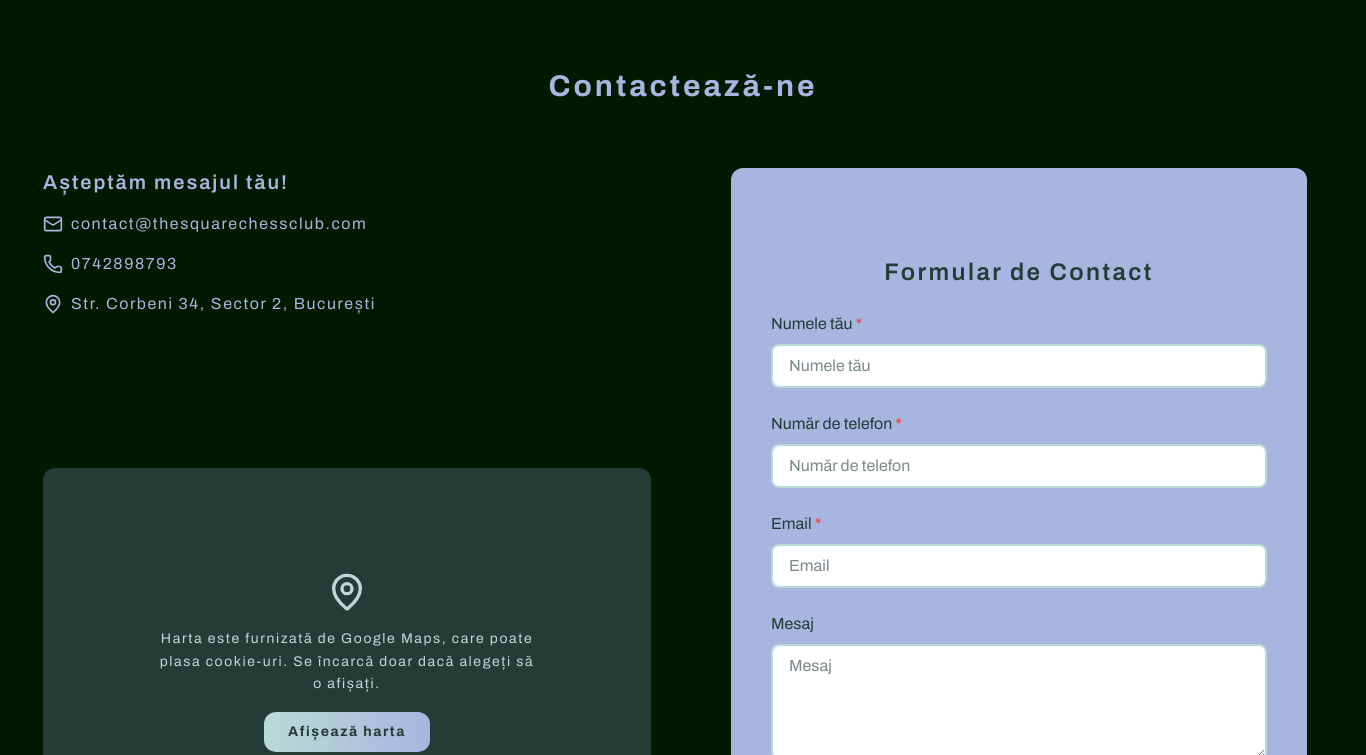
Contact Form - Manual Testing Scenarios › should successfully submit form with all valid data
# Fill in all fields
Type "Ion Popescu" into the field labelled "Numele tău *". click: [1019, 366]
box: [771,344,1267,388]
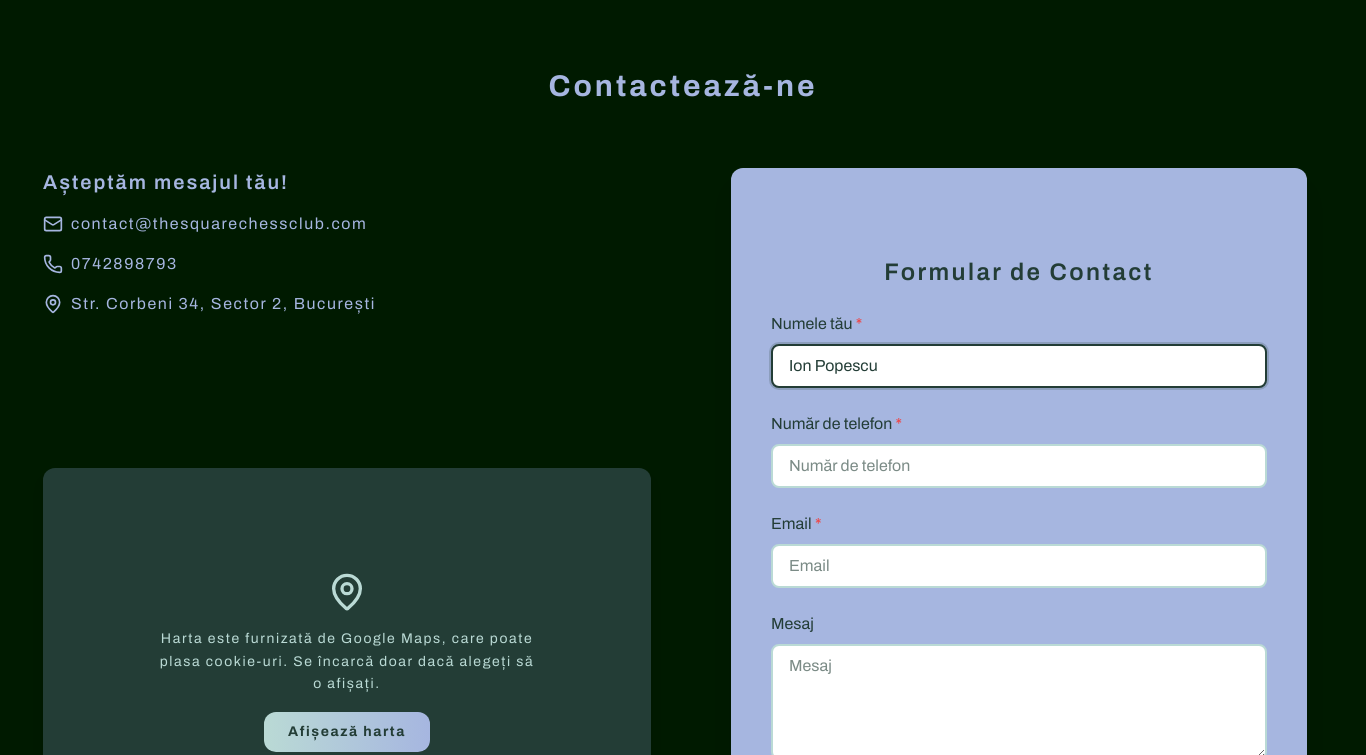
Type "0741234567" into the field labelled "Număr de telefon *". click: [1019, 466]
box: [771,444,1267,488]
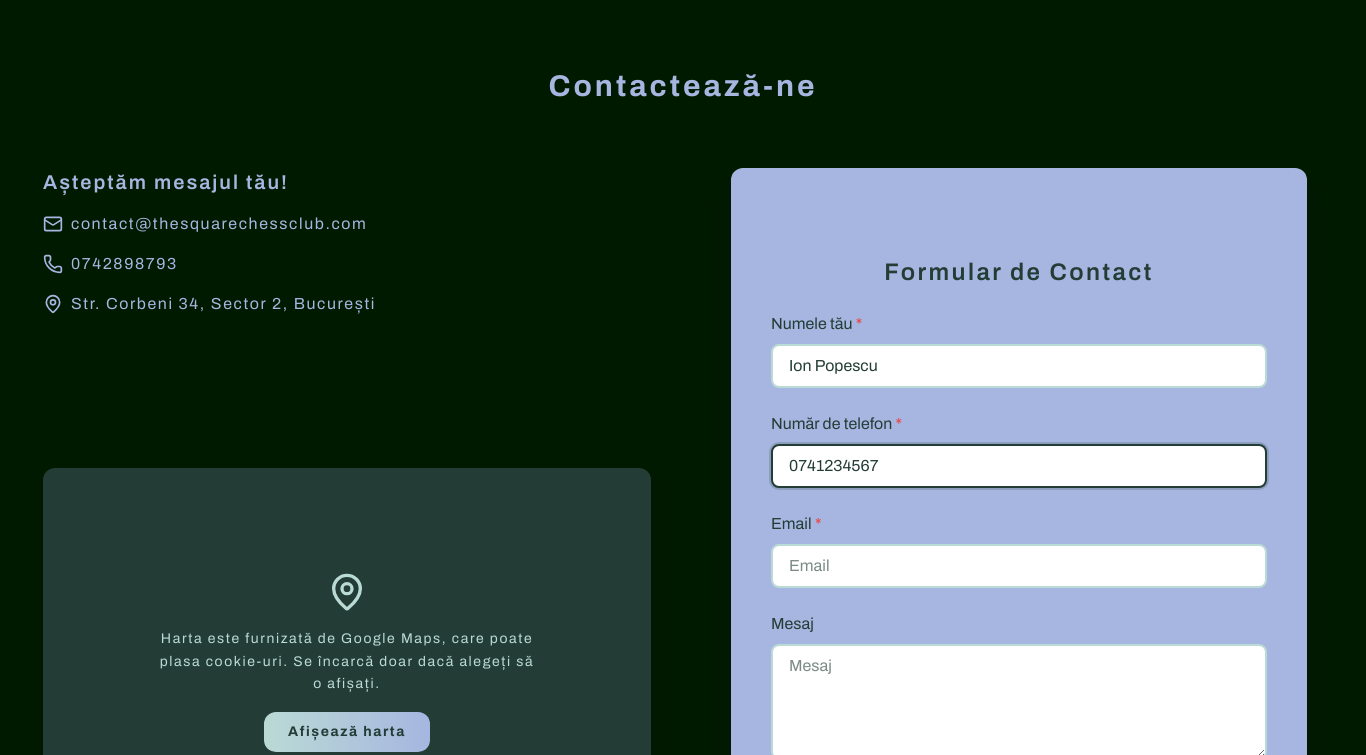
Type "ion@example.com" into the field labelled "Email *". click: [1019, 566]
box: [771,544,1267,588]
(page scrolled)
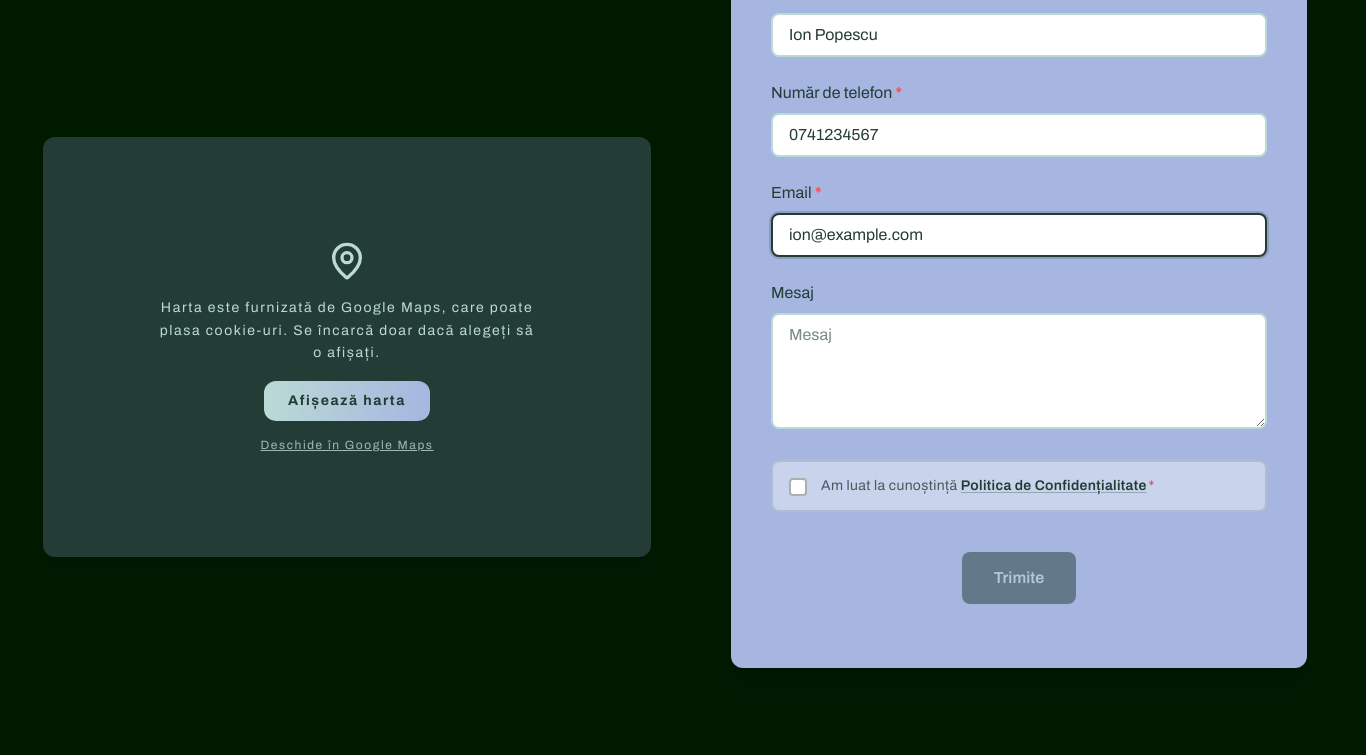
Type "Salut! Vreau să mă înscriu la cursuri." into the text box labelled "Mesaj". click: [1019, 371]
box: [771,313,1267,429]
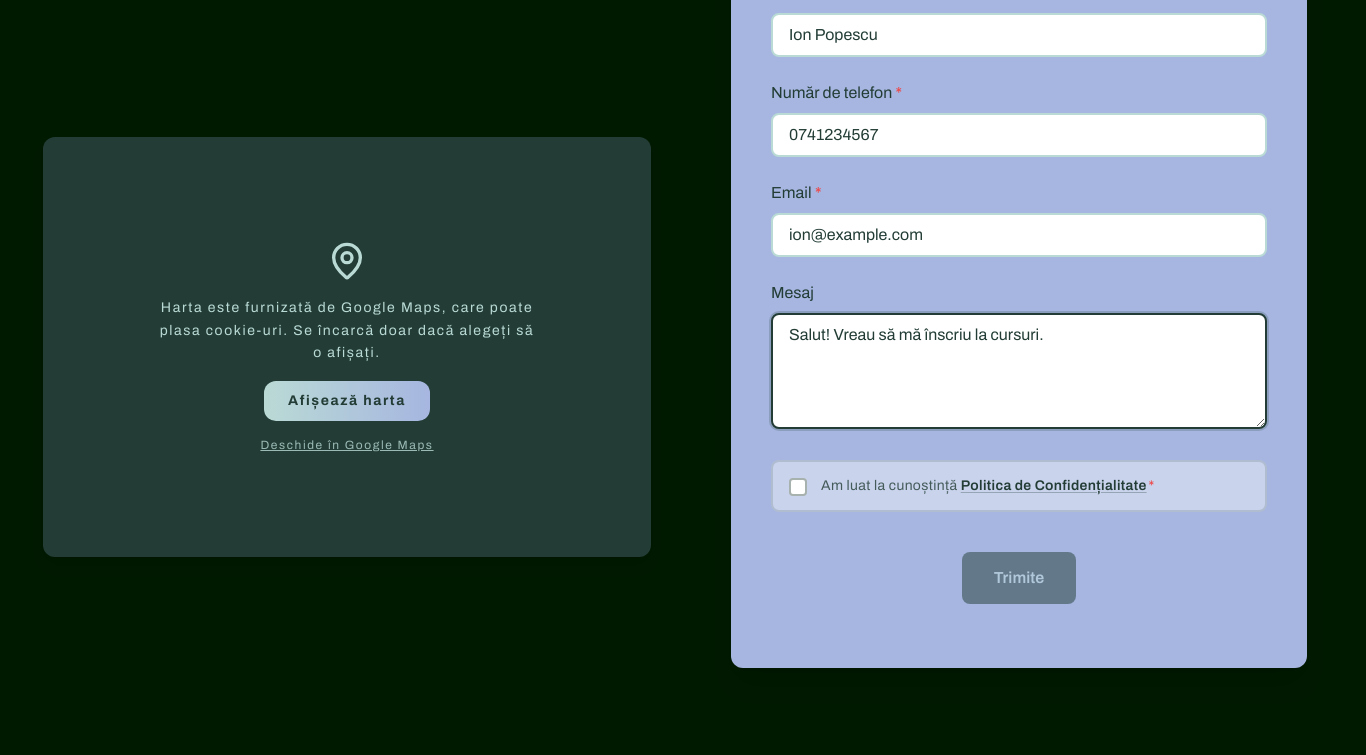
# Check consent
Click the checkbox labelled "Am luat la cunoștință Politica de Confidențialitate *". click: [1019, 486]
box: [771,460,1267,512]
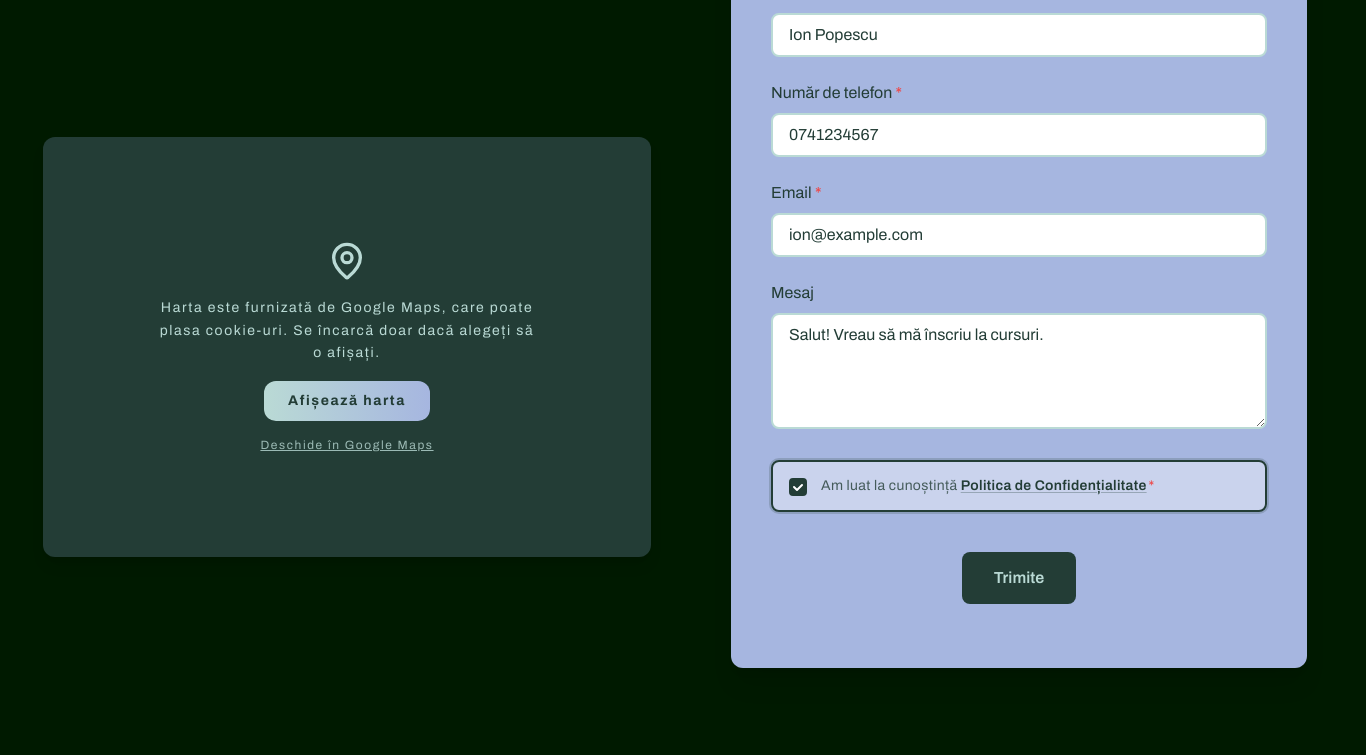
# Submit form
Click the button "Trimite". click: [1019, 578]
box: [962,552,1076,604]
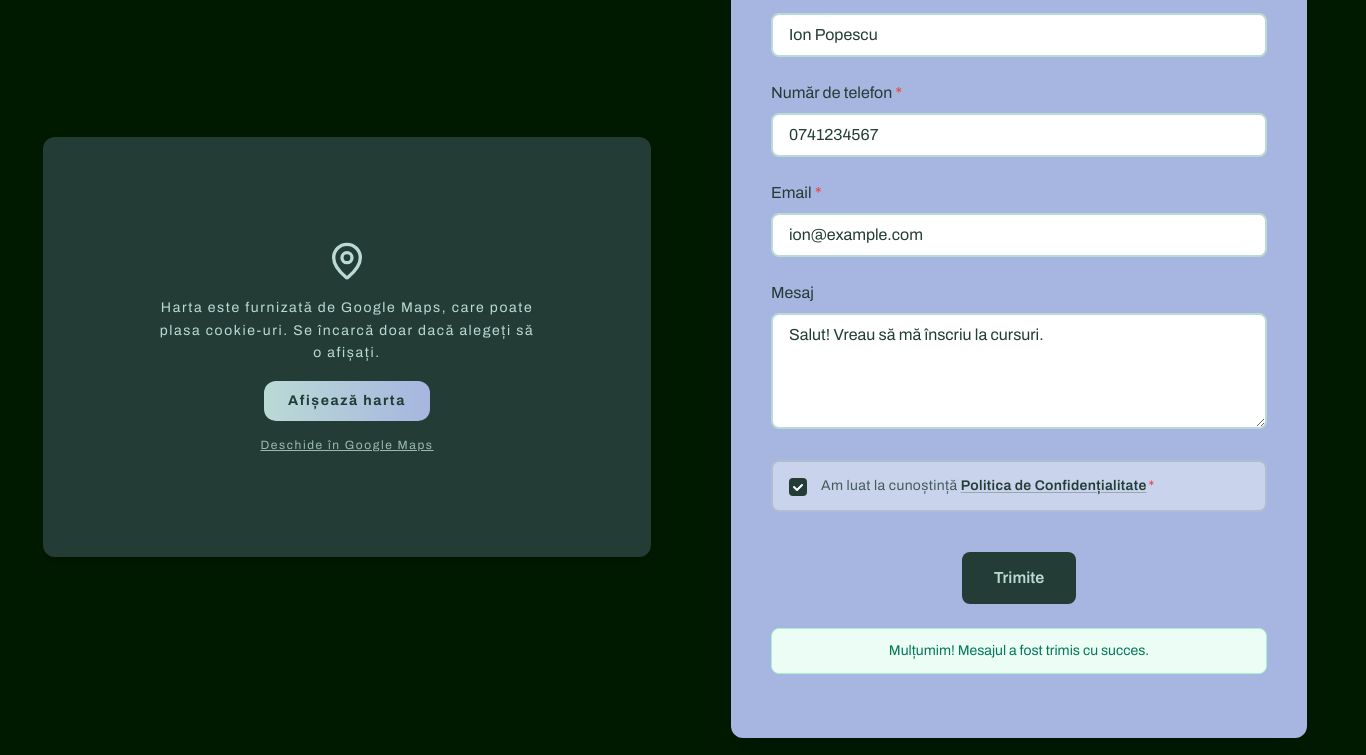
Expected: the message shows "Mulțumim", [889,643,1149,658]
